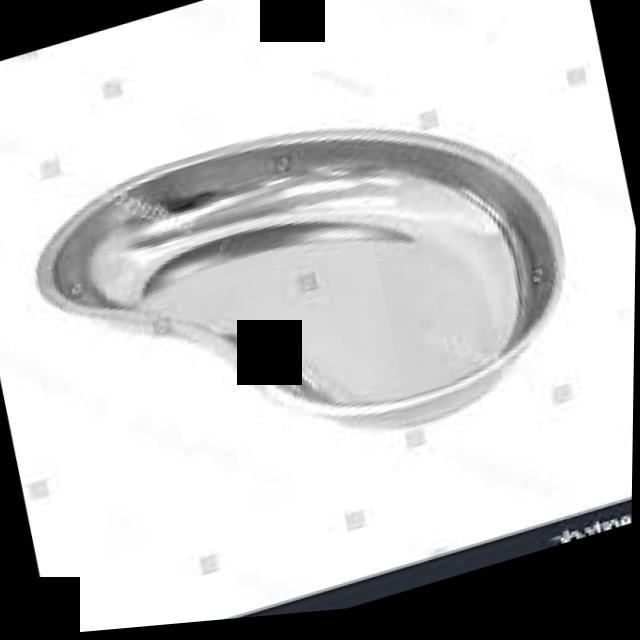Kidney Tray: (31, 47, 604, 517)
